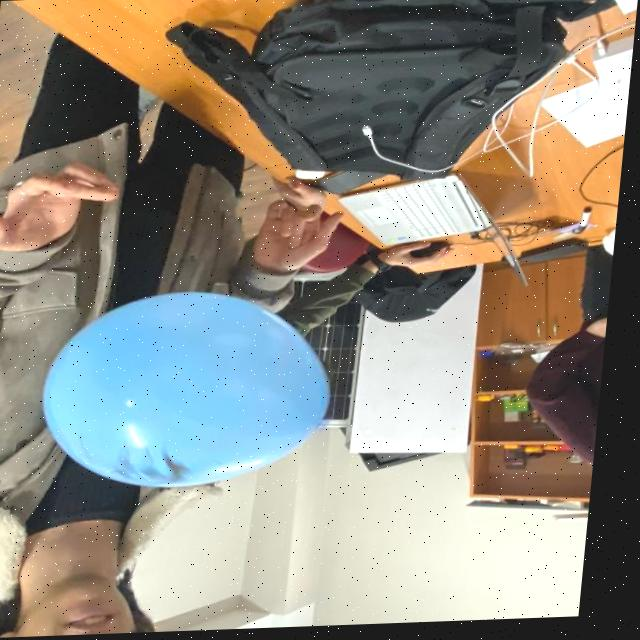balloon: (40, 291, 338, 492)
